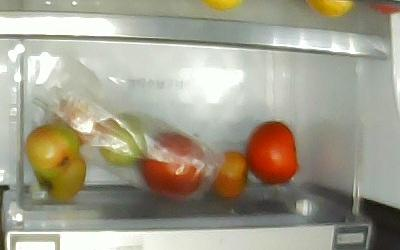tomato: (246, 120, 297, 187), (24, 124, 80, 178), (38, 155, 86, 203), (211, 150, 247, 197)
tomato_vinyl: (139, 133, 203, 196), (102, 116, 149, 167)
